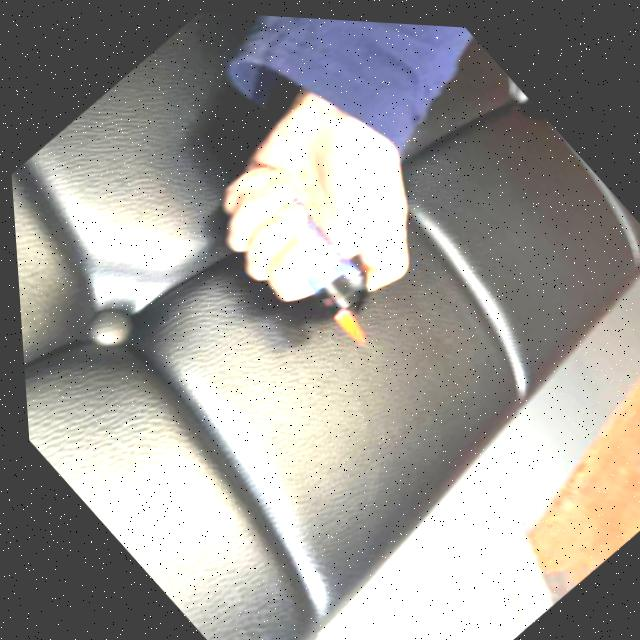Fire: (327, 299, 370, 342)
